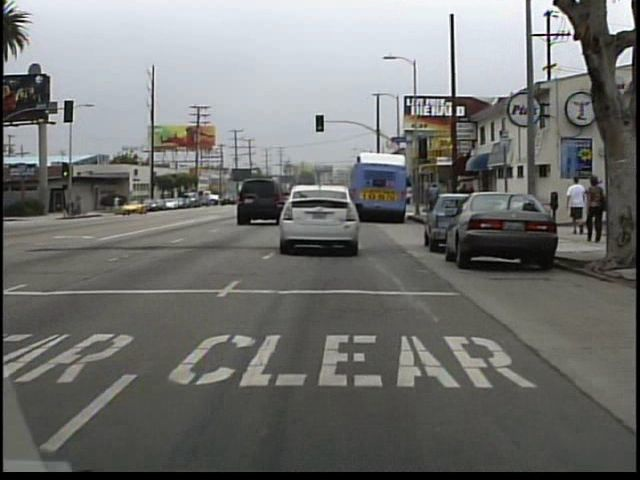person: (581, 173, 605, 243), (563, 172, 586, 236), (425, 180, 444, 221), (113, 194, 124, 213)
